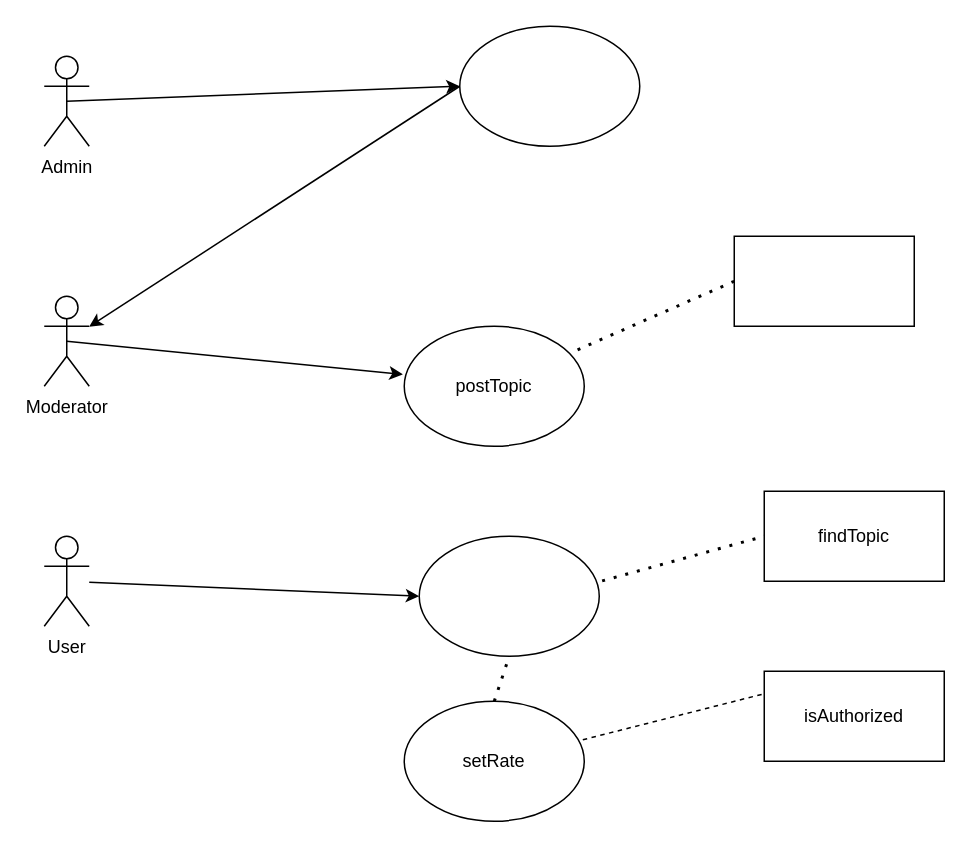
This 971x848 diagram has some shape labels left out. The shapes that lost their labels are listed below. From the top down, each one's centre as x and y in pixels, then its label:
At (549,85): "PrepareTopic".
At (823,280): "ValidateTopic".
At (508,595): "getTopic".
